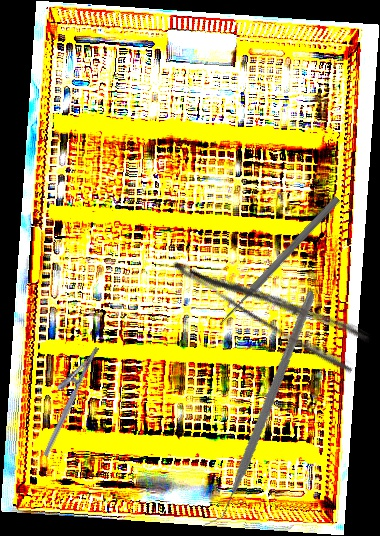Chopper: (166, 290, 350, 527)
Dressing Forceps: (169, 228, 373, 378)
Needle Holder: (27, 339, 101, 457)
Pusher: (215, 194, 342, 329)
